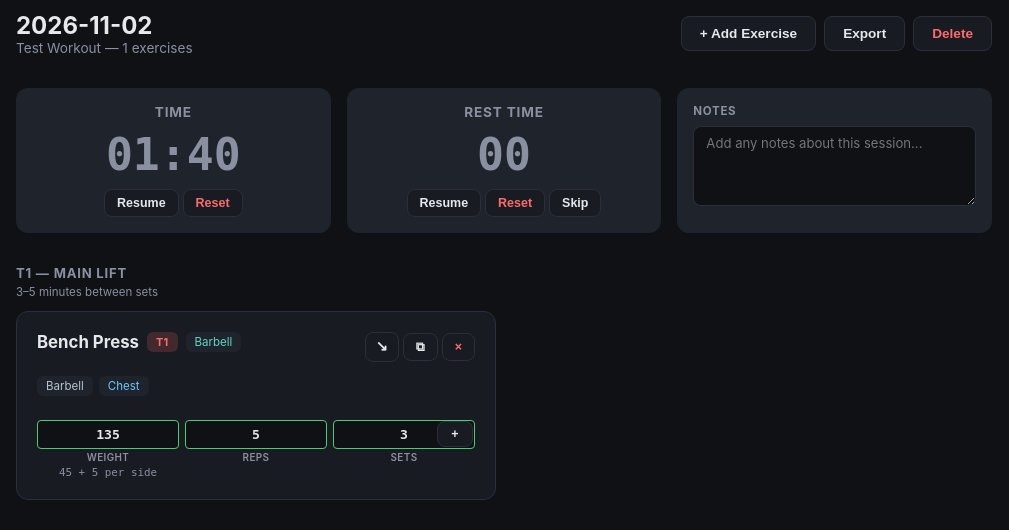
Test: duplicating an exercise within a session › keeps showing plates on a copy of a modern barbell record
Check: the text "Bench Press" is shown, box [37,332,139,352]
Click the button titled "Duplicate exercise". click: (420, 347)
box: [403,333,438,361]
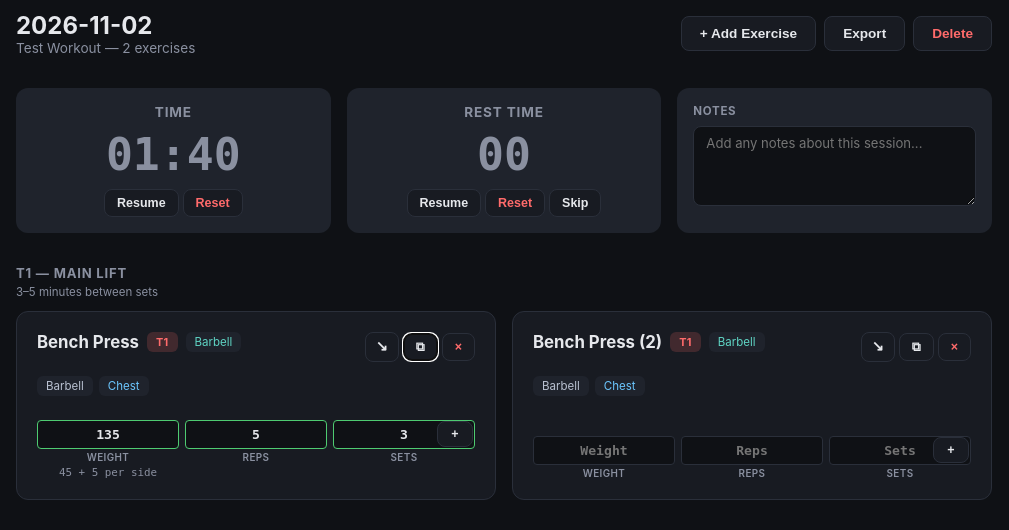
Check: the text "Bench Press (2)" is shown, box [533,332,662,352]
Type "137" into the field with placeholder "Weight". click: (604, 450)
box: [533,436,675,465]
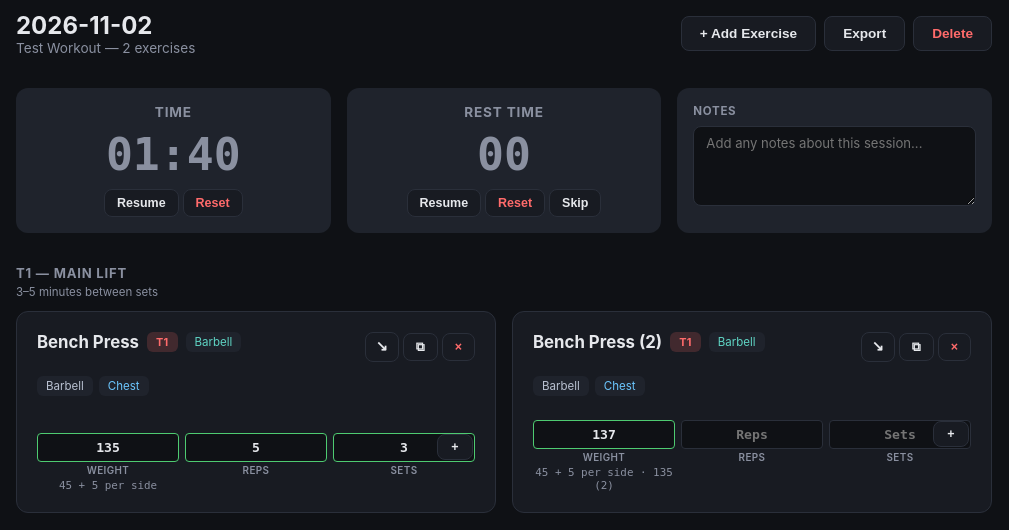
Check: the text with test id "plate-breakdown" shows "45 + 5 per side", box [535,466,673,492]
